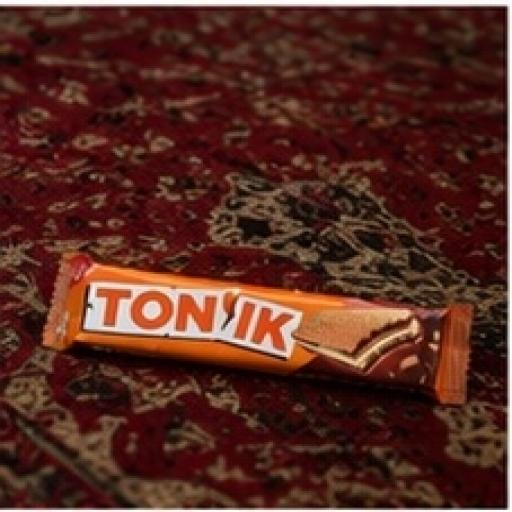tonik: (36, 192, 482, 429)
